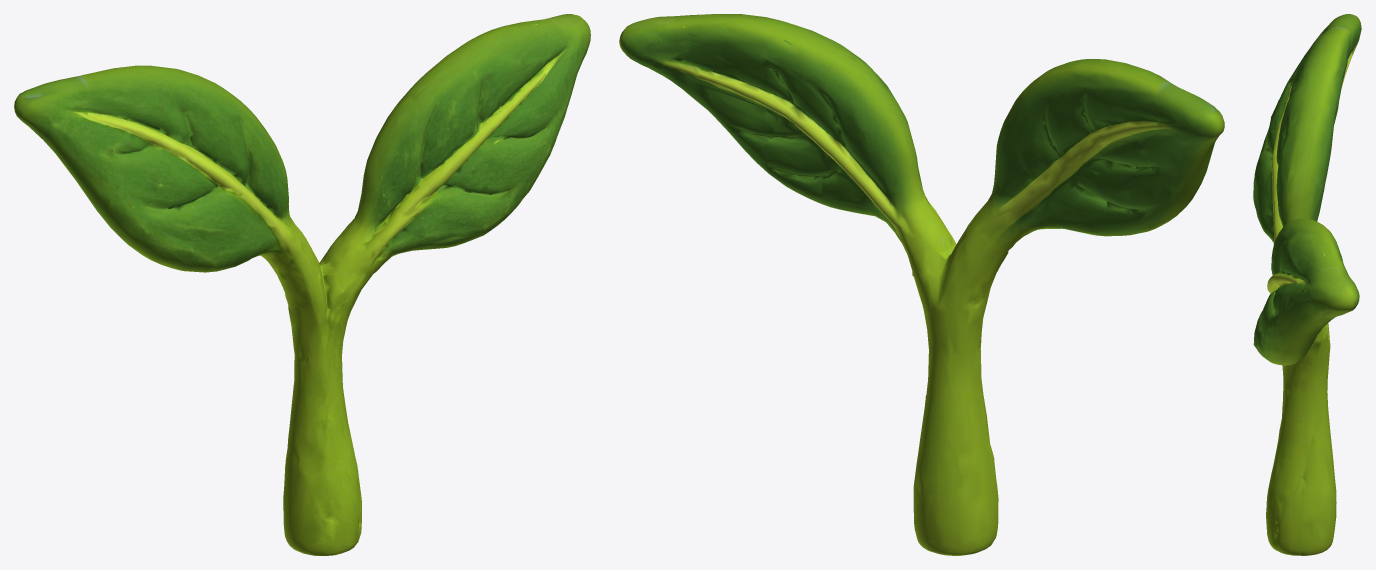
File: pepper-sprout.glb
3 renders of one model, left to right at view 1: azimuth 30°, elevation 25°; view 2: azimuth 150°, elevation 25°; view 3: azimuth 270°, elevation 25°, orthographic. The views are drawn at different scales.
Bounding box in the file's own units: 1.9 × 1.61 × 0.3693.
Materials: 1 (1 with a texture image).
